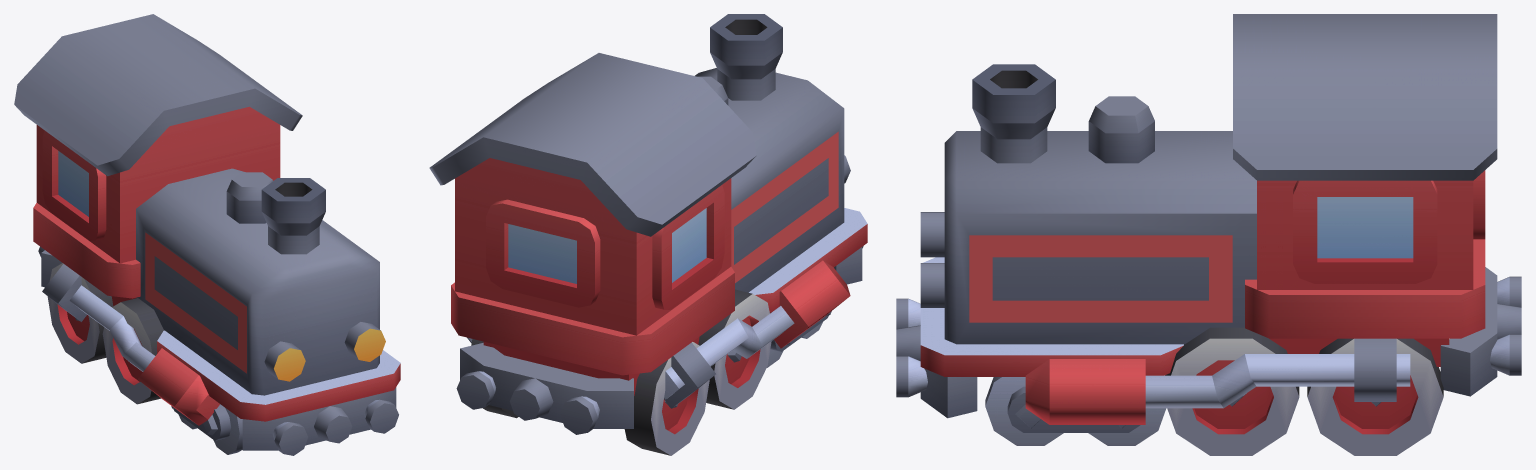
The model's file is train-locomotive-b.glb.
3 renders of one model, left to right at view 1: azimuth 30°, elevation 25°; view 2: azimuth 150°, elevation 25°; view 3: azimuth 270°, elevation 25°, orthographic. The views are drawn at different scales.
Visible parts, largest first — view 1: train-locomotive-b; view 2: train-locomotive-b; view 3: train-locomotive-b.
Boxes of the visible parts, box(x1,y1,x2,y2) form: train-locomotive-b: box(14, 14, 400, 455); train-locomotive-b: box(429, 14, 867, 455); train-locomotive-b: box(896, 14, 1521, 455).
Size of the model in its own units: 1.32 by 1.66 by 2.6.
Materials: 1 (1 with a texture image).
